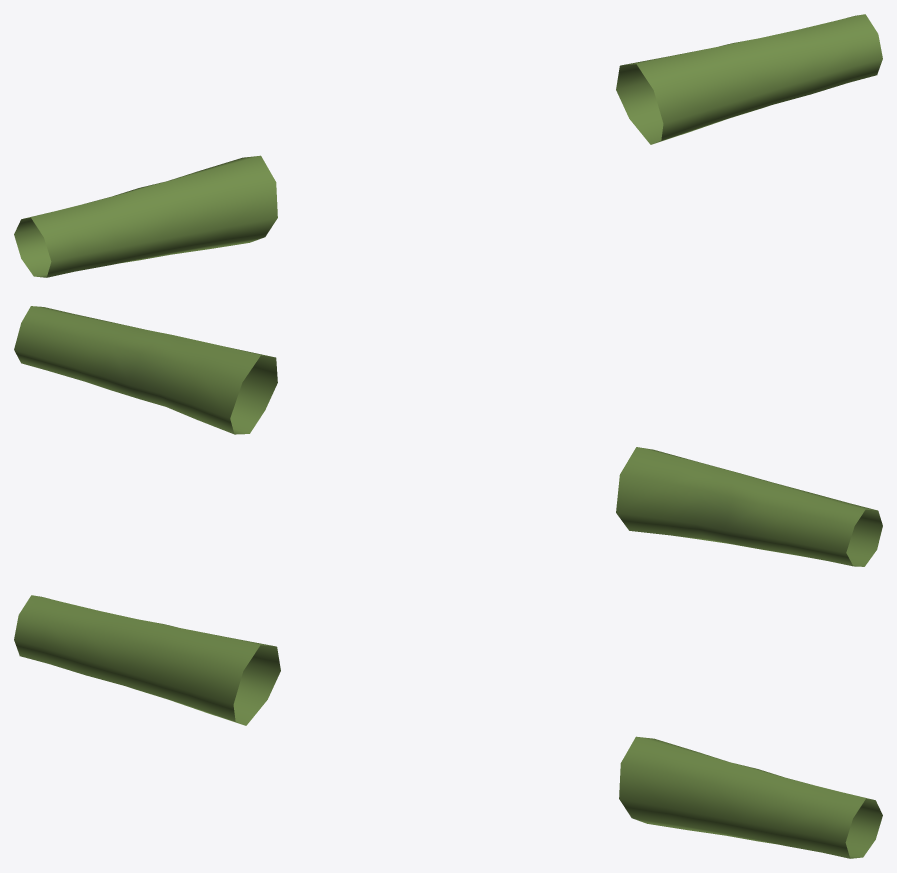
Rendered from Body_Green_ArmA_2.fbx.
3 renders of one model, top to bottom at view 1: azimuth 30°, elevation 25°; view 2: azimuth 150°, elevation 25°; view 3: azimuth 330°, elevation 25°, orthographic.
Visible parts, largest first — view 1: Body_Green_ArmA_2; view 2: Body_Green_ArmA_2; view 3: Body_Green_ArmA_2.
Part boxes in pixels (left/top/right/bottom): Body_Green_ArmA_2: left=14, top=14, right=882, bottom=277; Body_Green_ArmA_2: left=14, top=306, right=882, bottom=566; Body_Green_ArmA_2: left=14, top=595, right=882, bottom=858.
Size of the model in its own units: 95.86 by 9.1 by 9.47.
